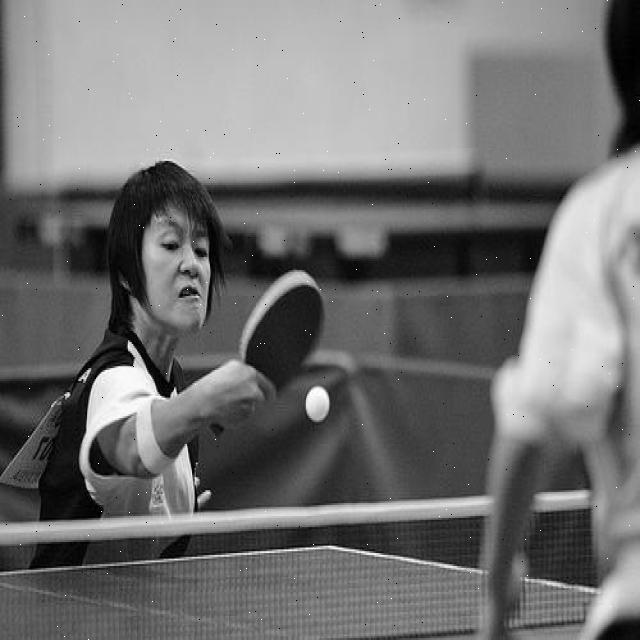ping-pong-ball: (304, 384, 330, 424)
